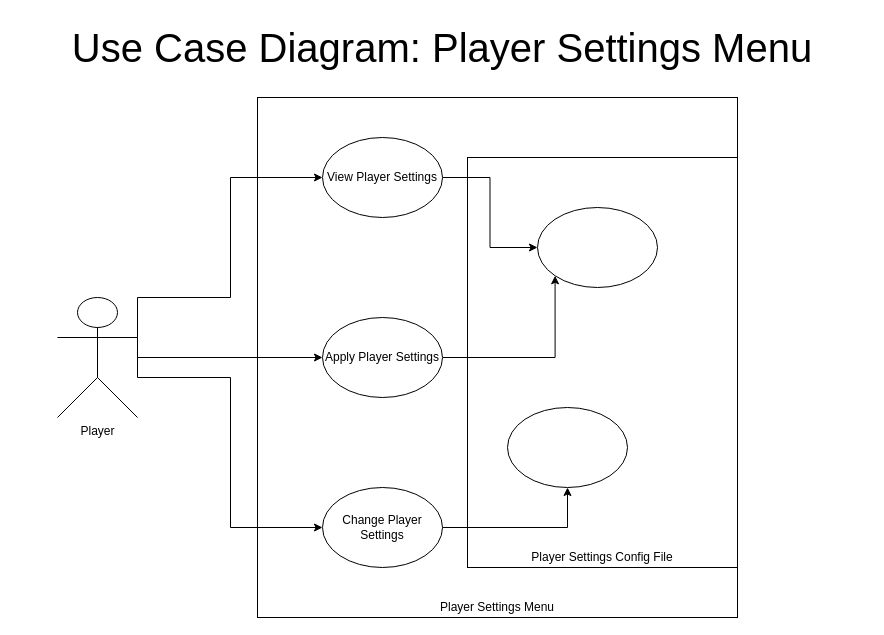
The diagram is 884 pixels wide and 635 high, and some of its shapes have lost their labels. Each missing label, with the centre of its shape:
"Load Player Settings to Config File" belongs at point 597,247.
"Save Player Settings to Config File" belongs at point 567,447.
